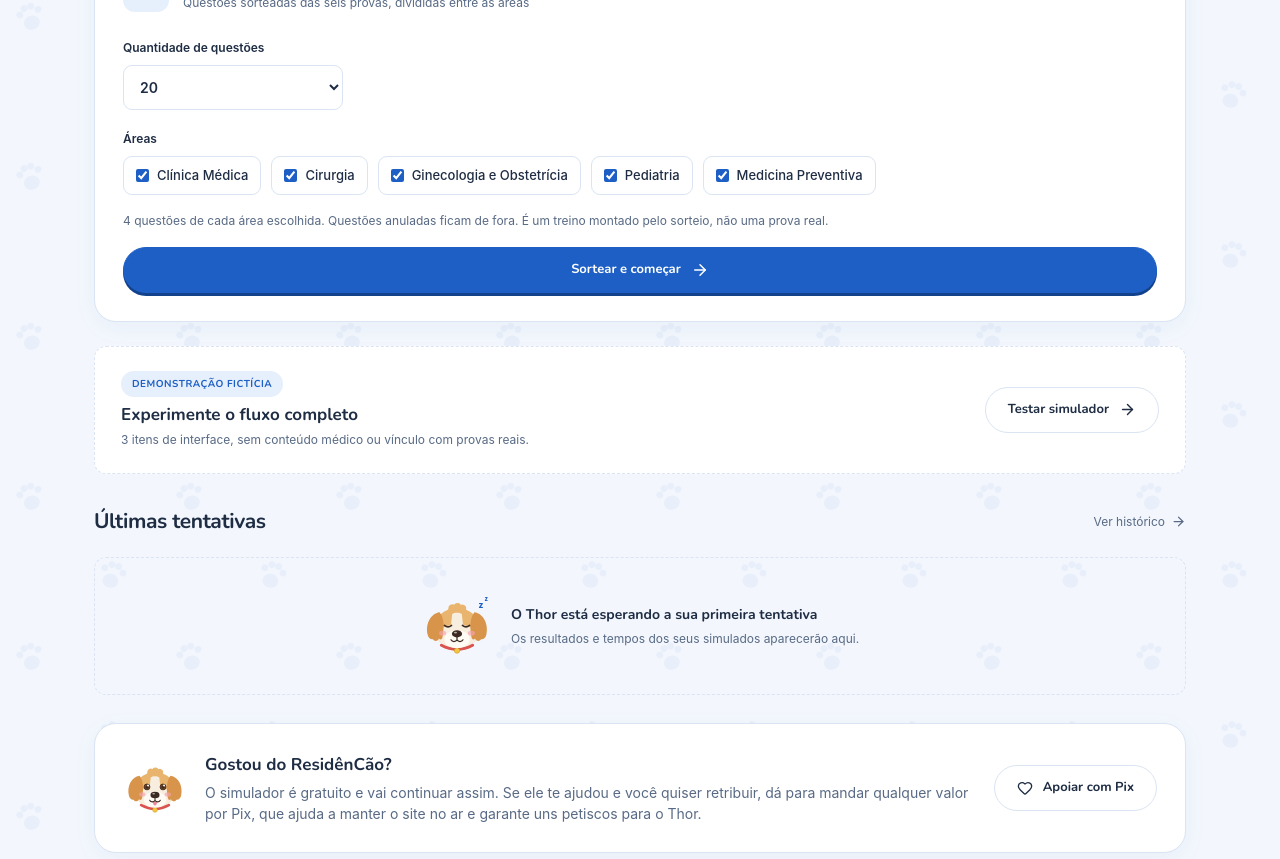
Scenario: Tela de prova › navega com Próxima, Anterior e o mapa de questões
(page scrolled)
Click the button "Testar simulador": (1072, 410) [985,387,1159,433]
(page scrolled)
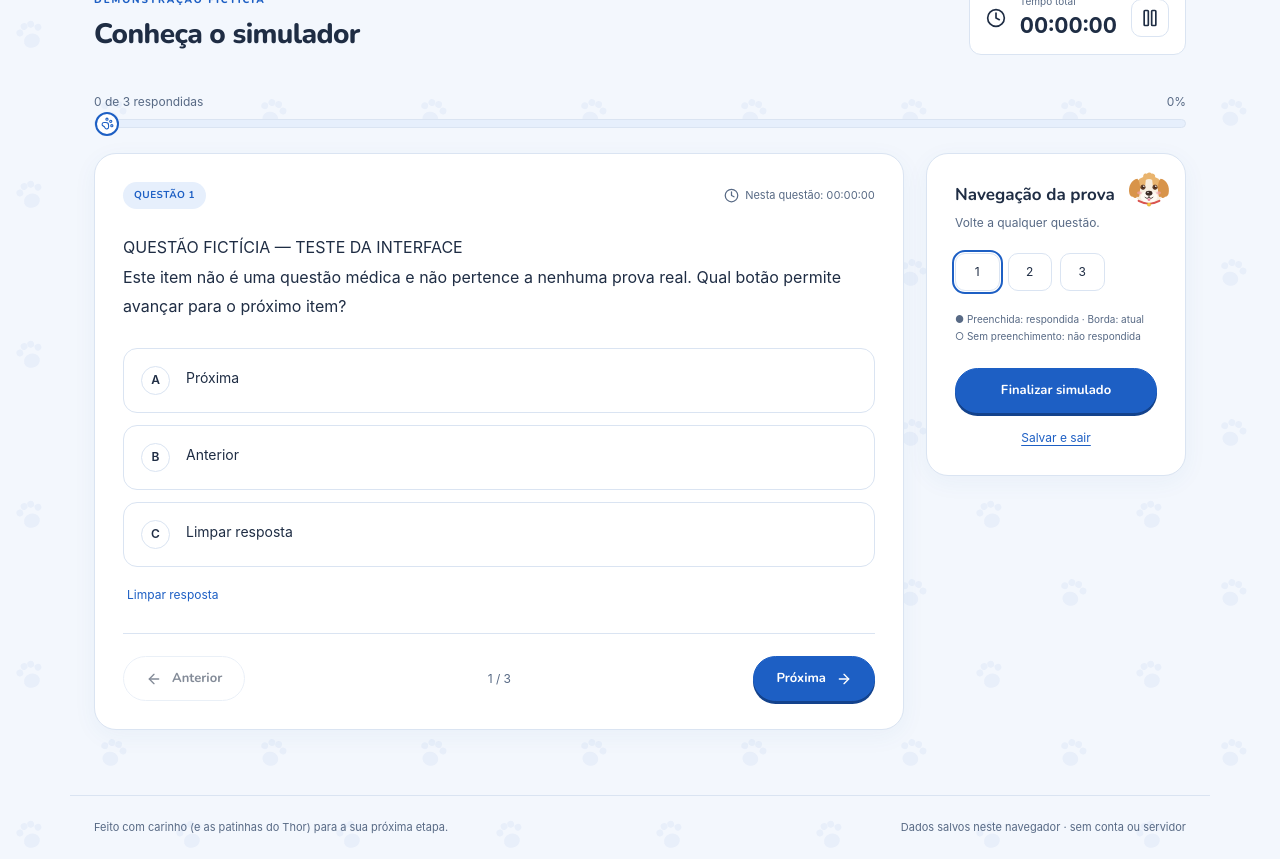
Now the heading "Conheça o simulador" is shown, box [94,18,360,51]
Click the button "Próxima": (814, 679) [753,656,875,701]
(page scrolled)
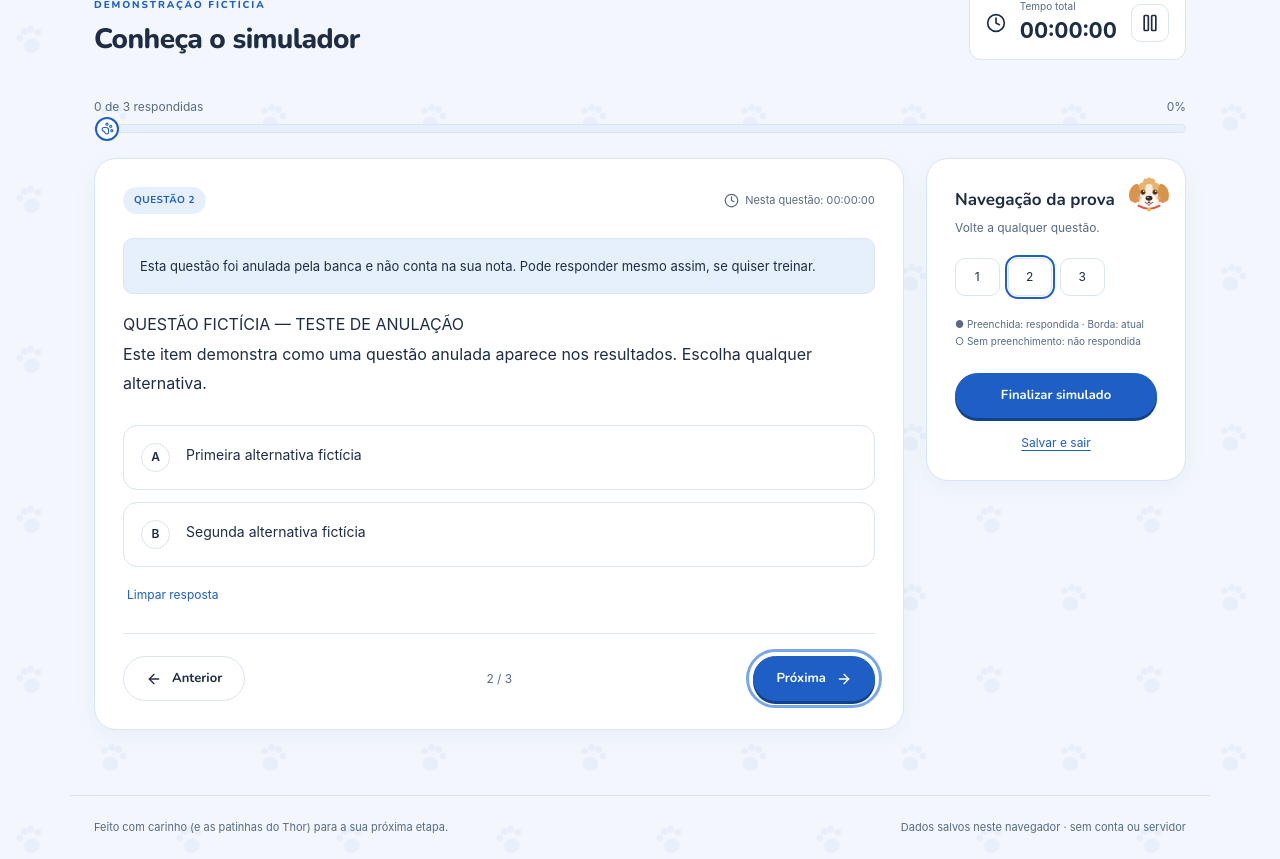
Now the text "QUESTÃO 2" is shown, box [123,187,206,214]
Now the text "2 / 3" is shown, box [486,670,512,688]
Click the button named "Questão 3,": (1082, 277) [1060,258,1104,296]
(page scrolled)
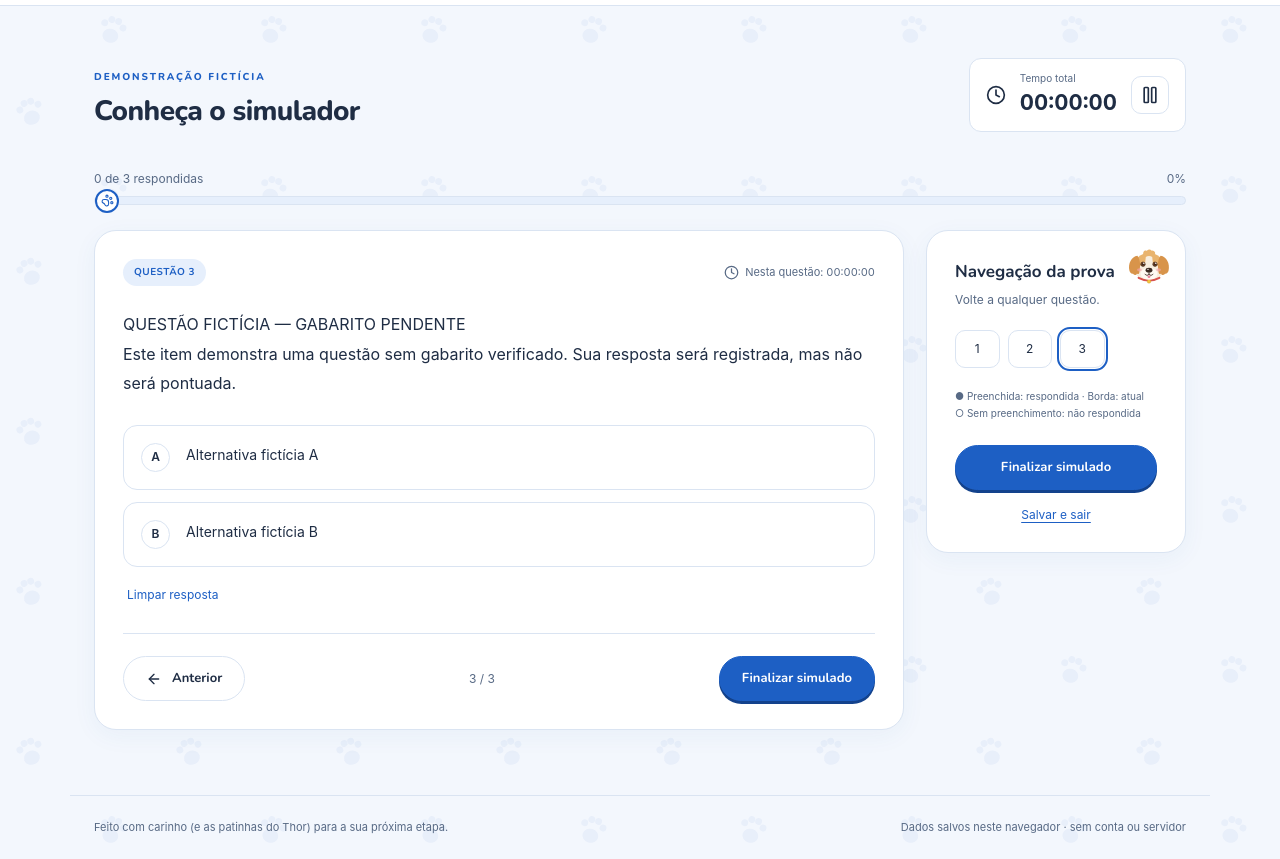
Expected: the number of buttons "Finalizar simulado" is 2, [719,656,875,701]; [955,445,1157,490]
Now the text "QUESTÃO 3" is shown, box [123,259,206,286]
Click the button "Anterior": (184, 679) [123,656,245,701]
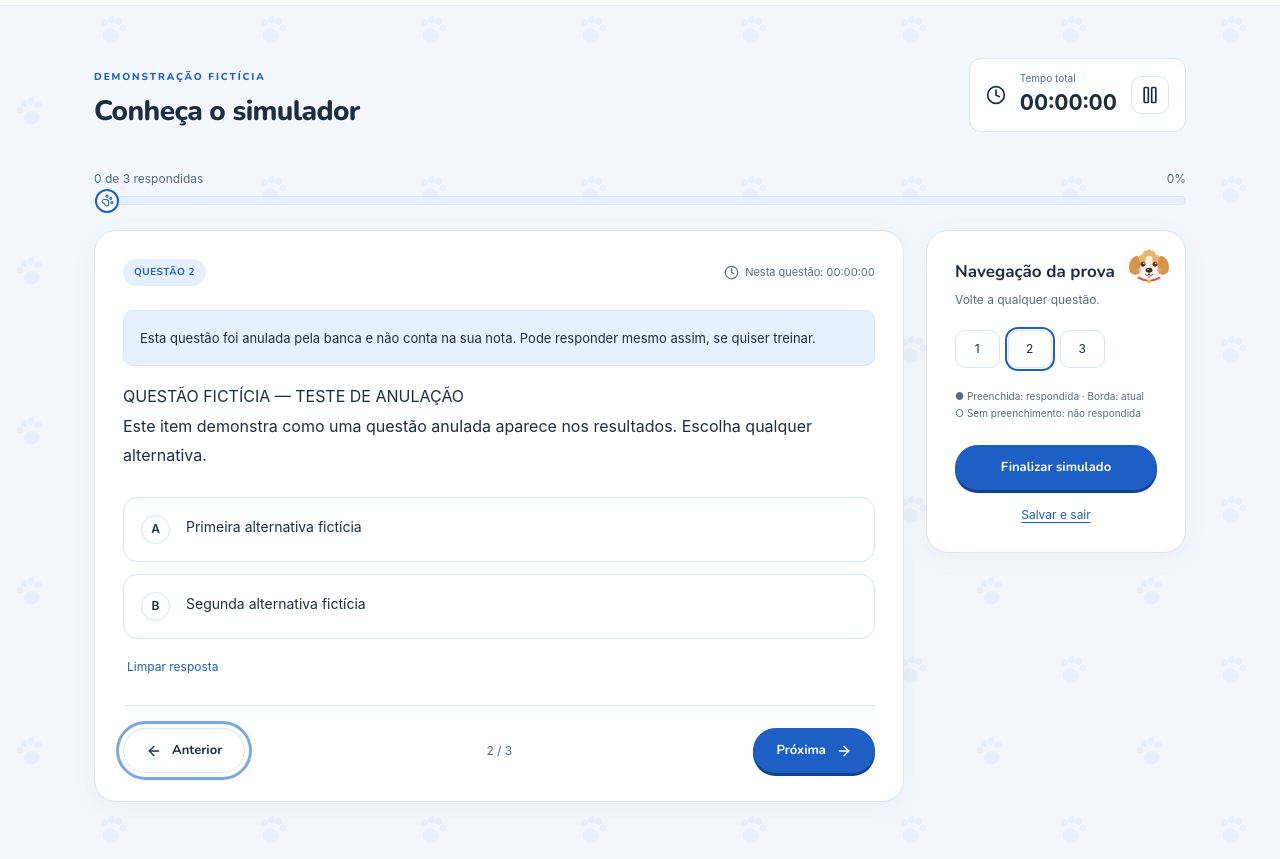
Click the button "Anterior": (184, 751) [123,728,245,773]
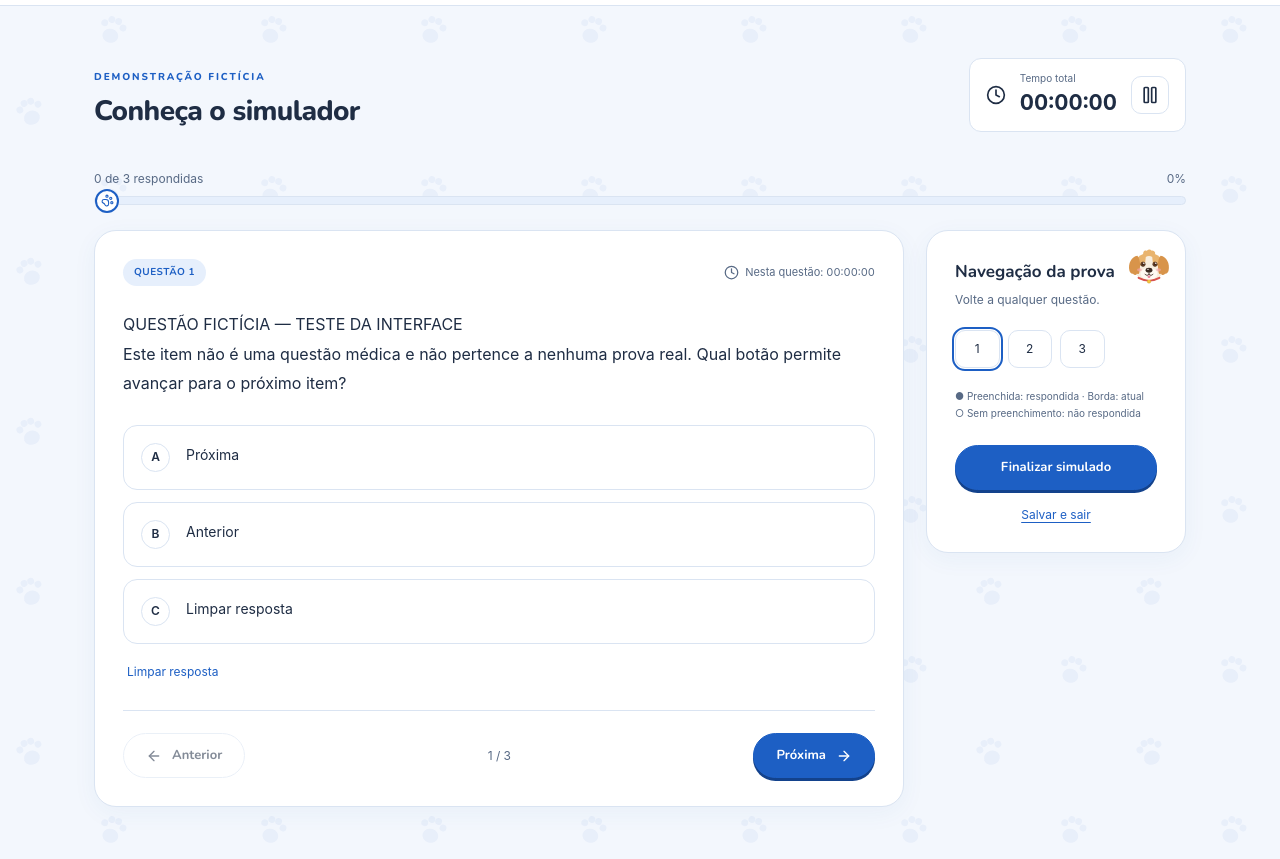
Now the text "QUESTÃO 1" is shown, box [123,259,206,286]
Now the button "Anterior" is disabled, box [123,733,245,778]
